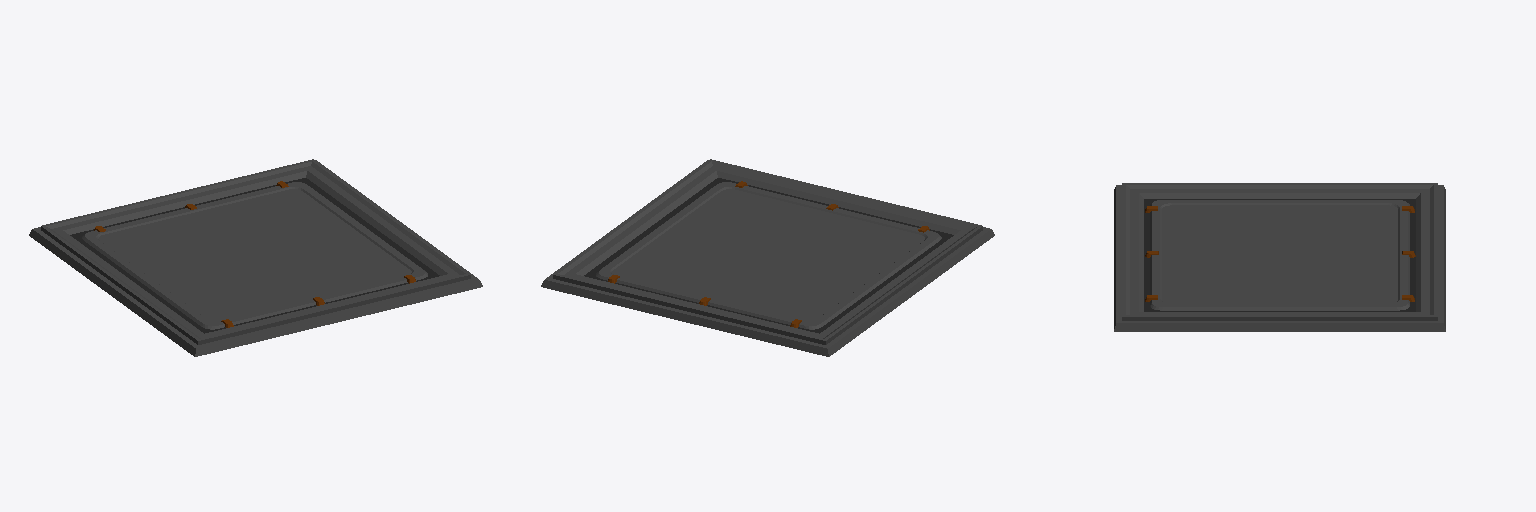
Rendered from RoofTile_Plate.obj.
The picture shows the model from 3 angles: view 1: azimuth 30°, elevation 25°; view 2: azimuth 150°, elevation 25°; view 3: azimuth 270°, elevation 25°; orthographic projection.
Visible parts, largest first — view 1: RoofTile_Plate_Plane.120; view 2: RoofTile_Plate_Plane.120; view 3: RoofTile_Plate_Plane.120.
Boxes of the visible parts, <box> form: RoofTile_Plate_Plane.120: <box>29,159,482,356</box>; RoofTile_Plate_Plane.120: <box>541,159,994,356</box>; RoofTile_Plate_Plane.120: <box>1114,183,1445,331</box>.
Bounding box in the file's own units: 2 × 0.0773 × 2.